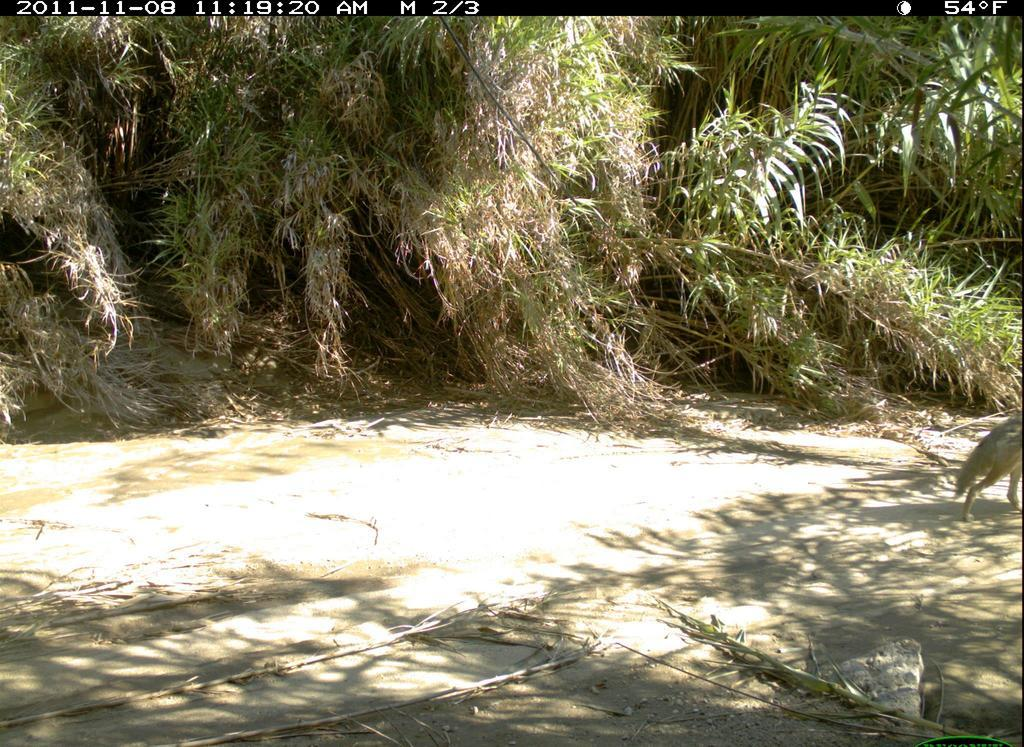coyote: (950, 405, 1021, 539)
